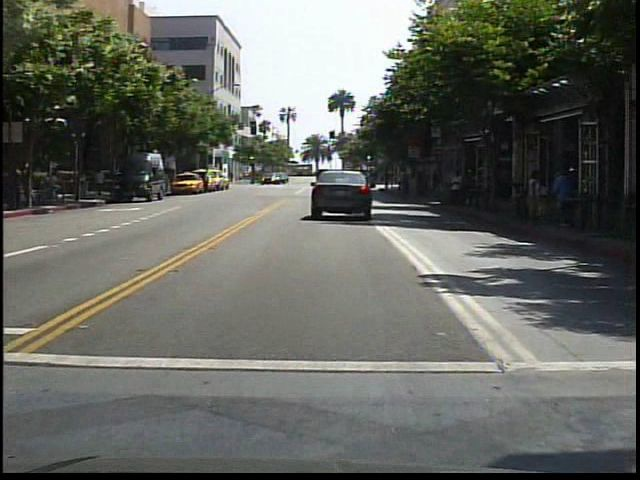person: (447, 167, 468, 212)
